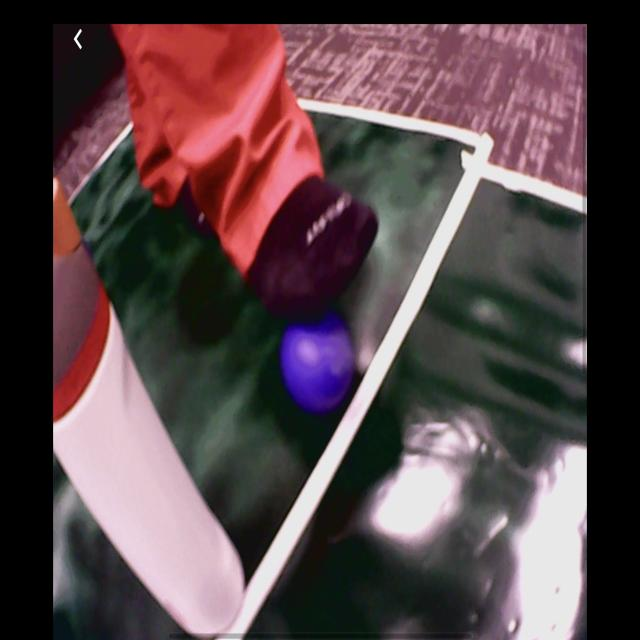ball: (280, 311, 356, 410)
